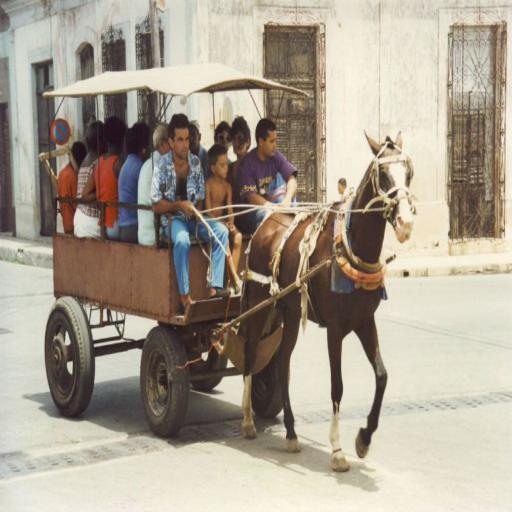horse: (240, 127, 415, 471)
